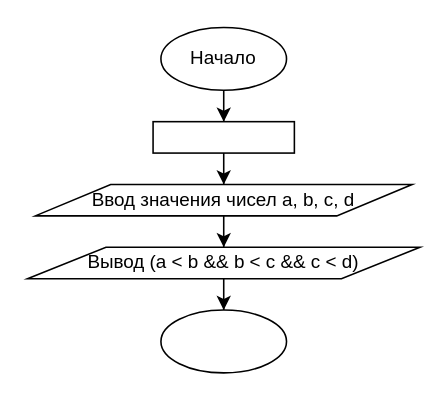
This 447x400 diagram has some shape labels left out. The centre of each missing label's shape, as x and y in pixels:
"Конец" belongs at point 223,341.
"Число a, b, c, d" belongs at point 223,136.
